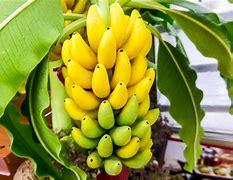banana: (51, 4, 163, 179)
